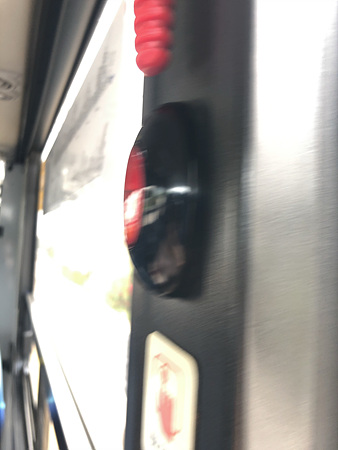bell: (124, 102, 211, 296)
